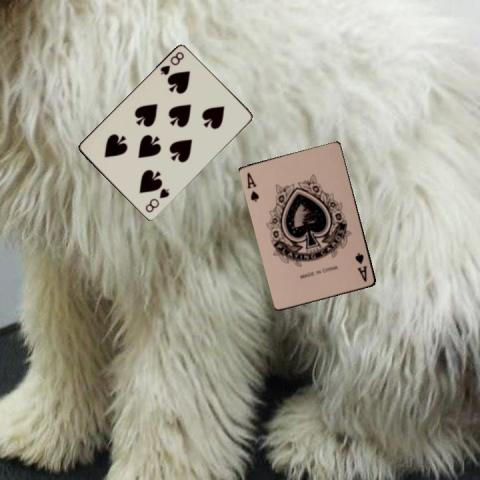8s: (142, 185, 171, 214), (158, 49, 186, 77)
As: (352, 250, 369, 283), (244, 170, 261, 203)
